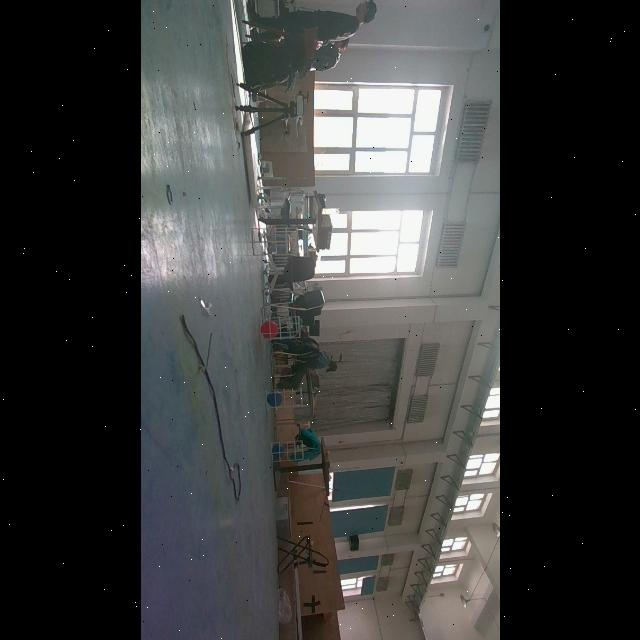B: (266, 390, 280, 410), (270, 444, 284, 458)
R: (262, 320, 276, 338)
S: (249, 226, 301, 258), (262, 384, 304, 414), (257, 314, 301, 342), (268, 439, 304, 467)
